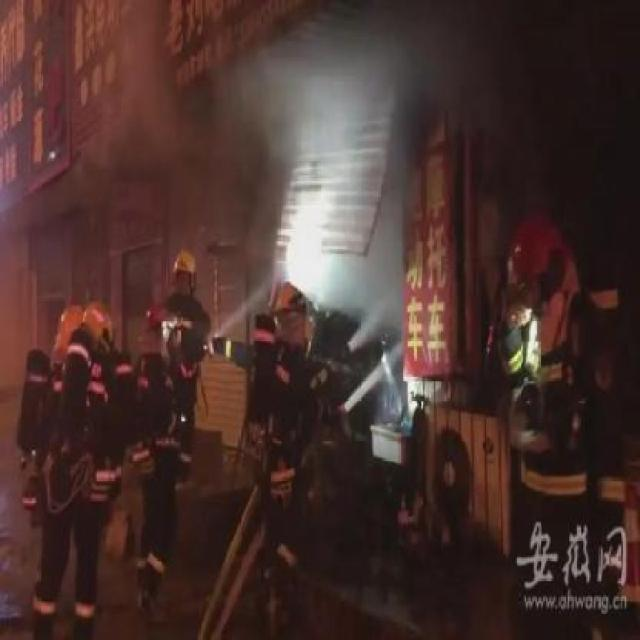Smoke: (256, 34, 393, 158)
